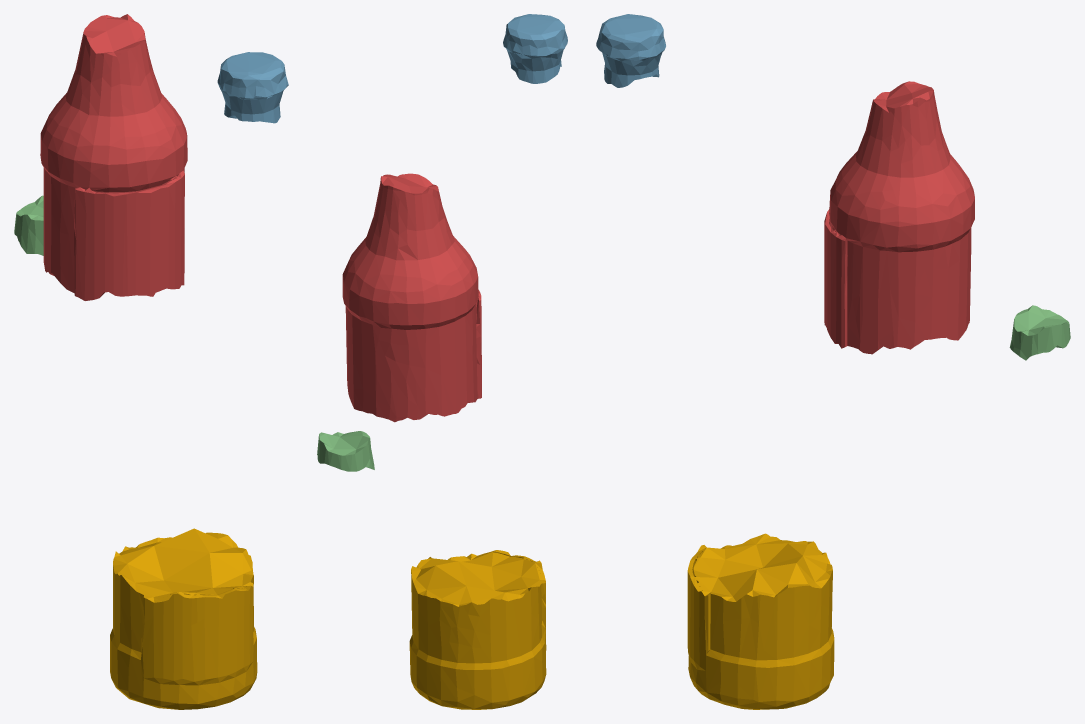
File: fractured_29_4pcs_transformed.glb
The picture shows the model from 3 angles, left to right: view 1: azimuth 30°, elevation 25°; view 2: azimuth 150°, elevation 25°; view 3: azimuth 270°, elevation 25°; orthographic projection. The views are drawn at different scales.
Parts seen in each view (by area): view 1: piece_1.obj, piece_0.obj, piece_2.obj, piece_3.obj; view 2: piece_1.obj, piece_0.obj, piece_2.obj, piece_3.obj; view 3: piece_1.obj, piece_0.obj, piece_2.obj, piece_3.obj.
Part boxes in pixels (x1,y1,x2,y2): piece_1.obj: (40, 14, 187, 300); piece_0.obj: (110, 528, 257, 709); piece_2.obj: (217, 52, 288, 123); piece_3.obj: (14, 195, 43, 255); piece_1.obj: (342, 173, 481, 422); piece_0.obj: (409, 550, 546, 709); piece_2.obj: (503, 14, 567, 83); piece_3.obj: (317, 431, 374, 471); piece_1.obj: (824, 81, 974, 354); piece_0.obj: (687, 533, 834, 709); piece_2.obj: (596, 14, 665, 87); piece_3.obj: (1009, 305, 1070, 360).
Bounding box in the file's own units: 0.3241 × 1.6 × 1.04.
